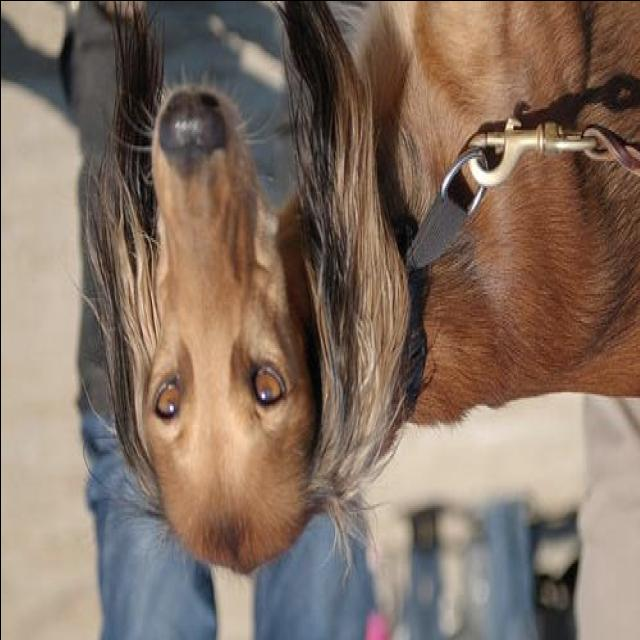saluki: (74, 2, 638, 570)
